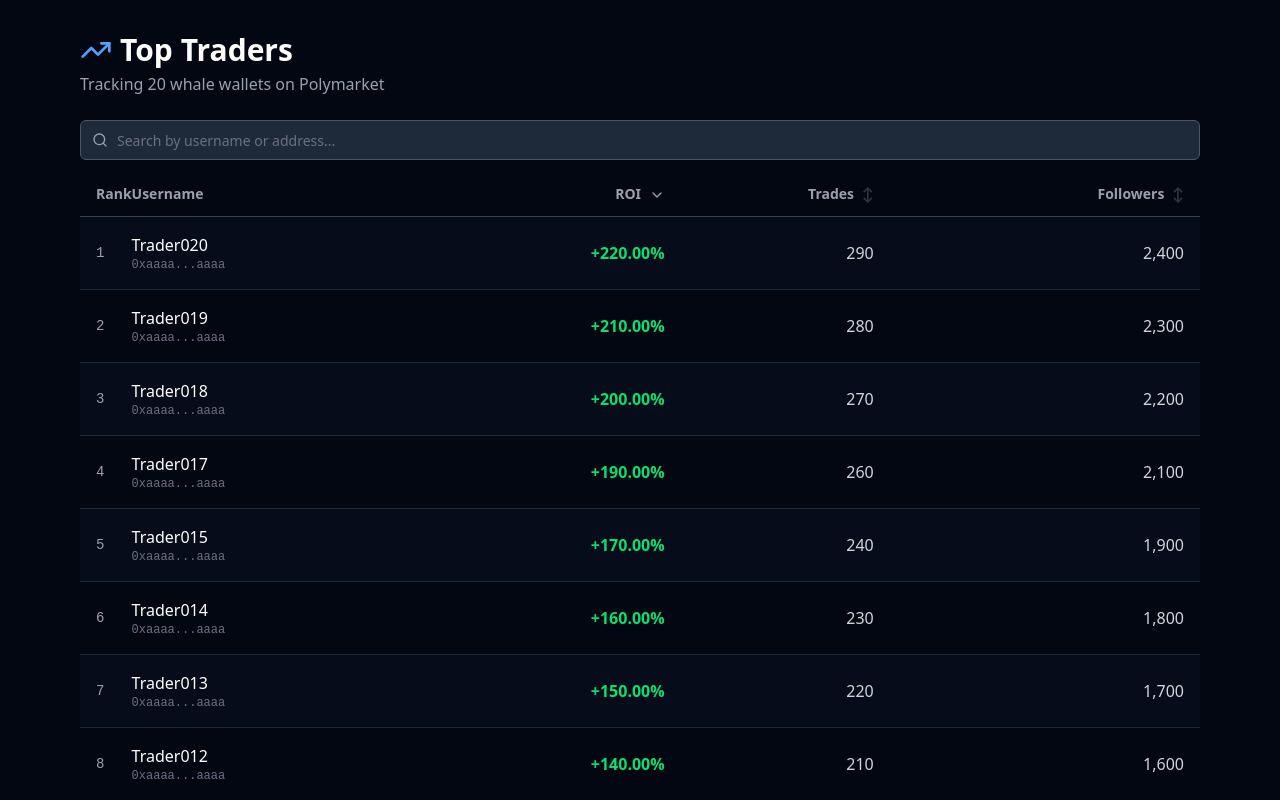
Test: Task 1.6: Leaderboard › Test 2: Search filters whales by username
Expected: the row with test id "whale-row" that starts with "Trader020" is shown, [80,216,1200,290]
In the field with test id "search-input": (640, 140) [80,120,1200,160], type "Trader001"
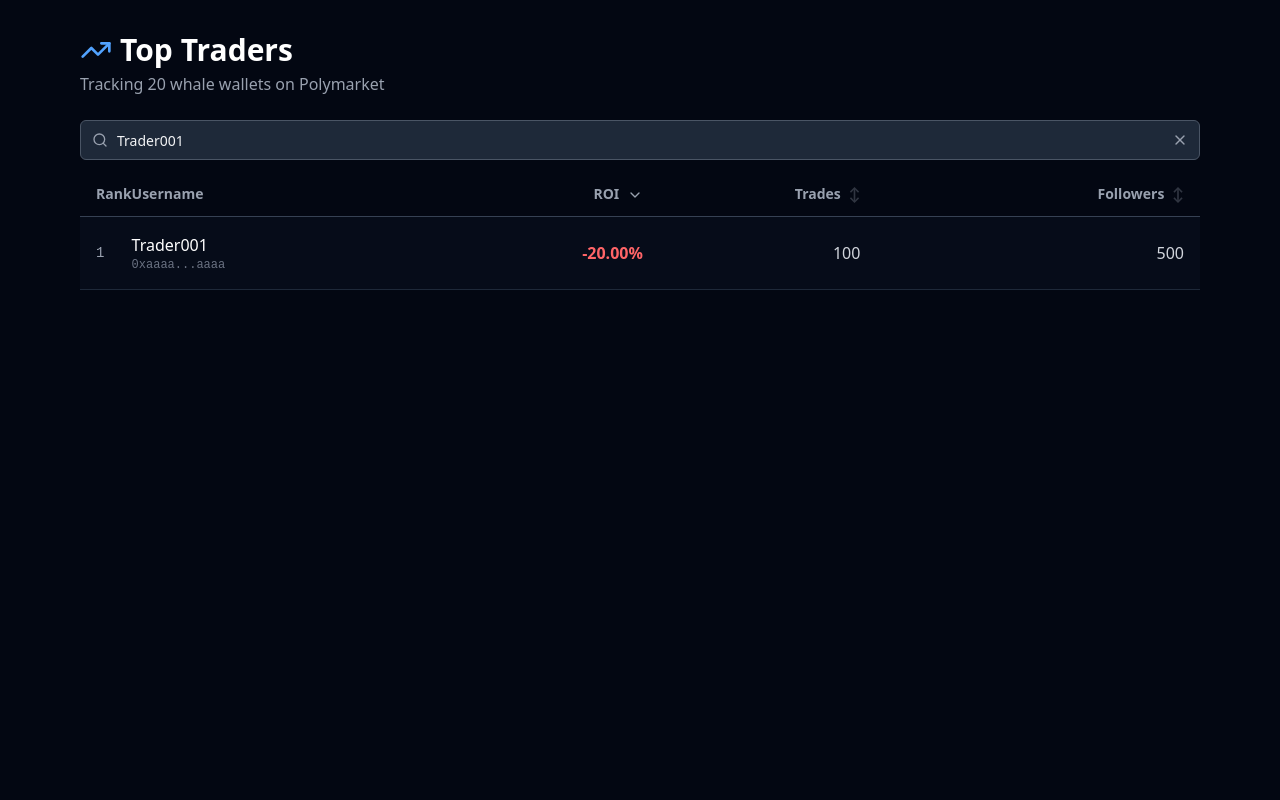
Expected: the number of rows with test id "whale-row" is 1, [80,216,1200,290]
